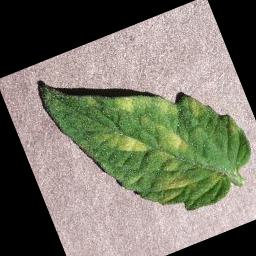Leaf_Mold: (110, 76, 182, 135), (96, 117, 153, 167), (151, 116, 191, 159), (150, 167, 193, 207)
